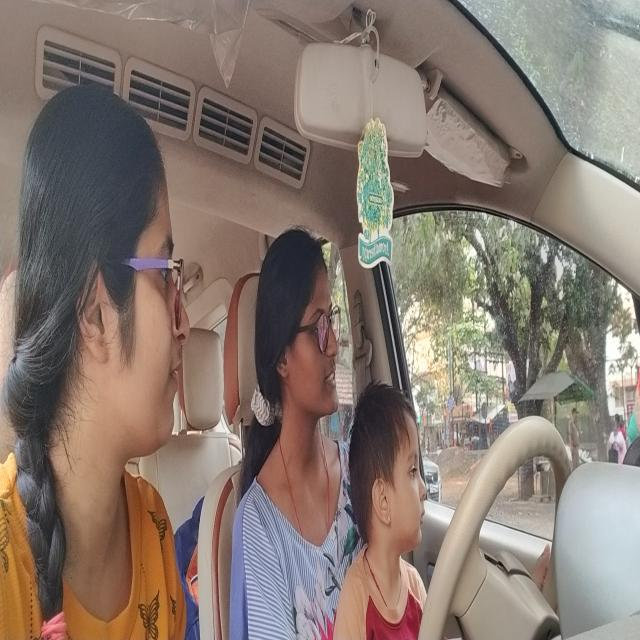child: (349, 376, 430, 566)
person: (14, 82, 192, 505), (253, 222, 344, 468)
